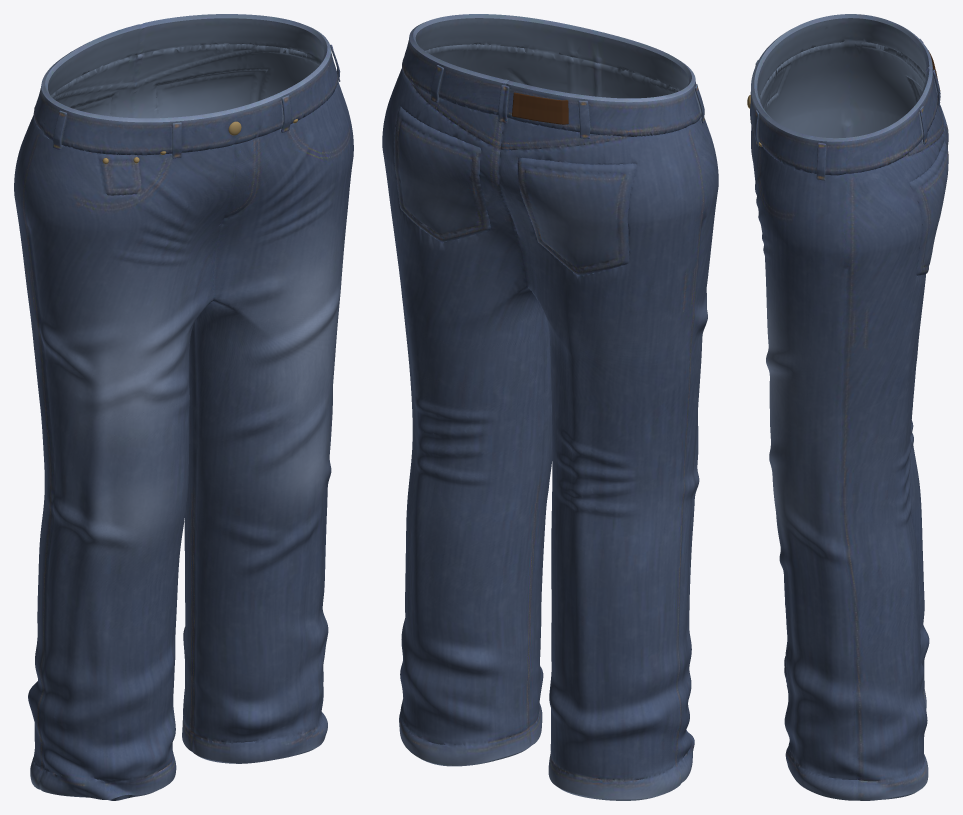
The model's file is 20_vaquero_clasico_pbr.glb.
3 renders of one model, left to right at view 1: azimuth 30°, elevation 25°; view 2: azimuth 150°, elevation 25°; view 3: azimuth 270°, elevation 25°, orthographic. The views are drawn at different scales.
Parts seen in each view (by area): view 1: Vaquero PBR; view 2: Vaquero PBR, Etiqueta de piel; view 3: Vaquero PBR.
Part boxes in pixels (x1,y1,x2,y2): Vaquero PBR: [14, 14, 353, 800]; Vaquero PBR: [382, 14, 718, 800]; Etiqueta de piel: [512, 92, 568, 124]; Vaquero PBR: [750, 14, 948, 800].
Size of the model in its own units: 0.4474 by 0.9649 by 0.2597.
Materials: 3 (1 with a texture image).
